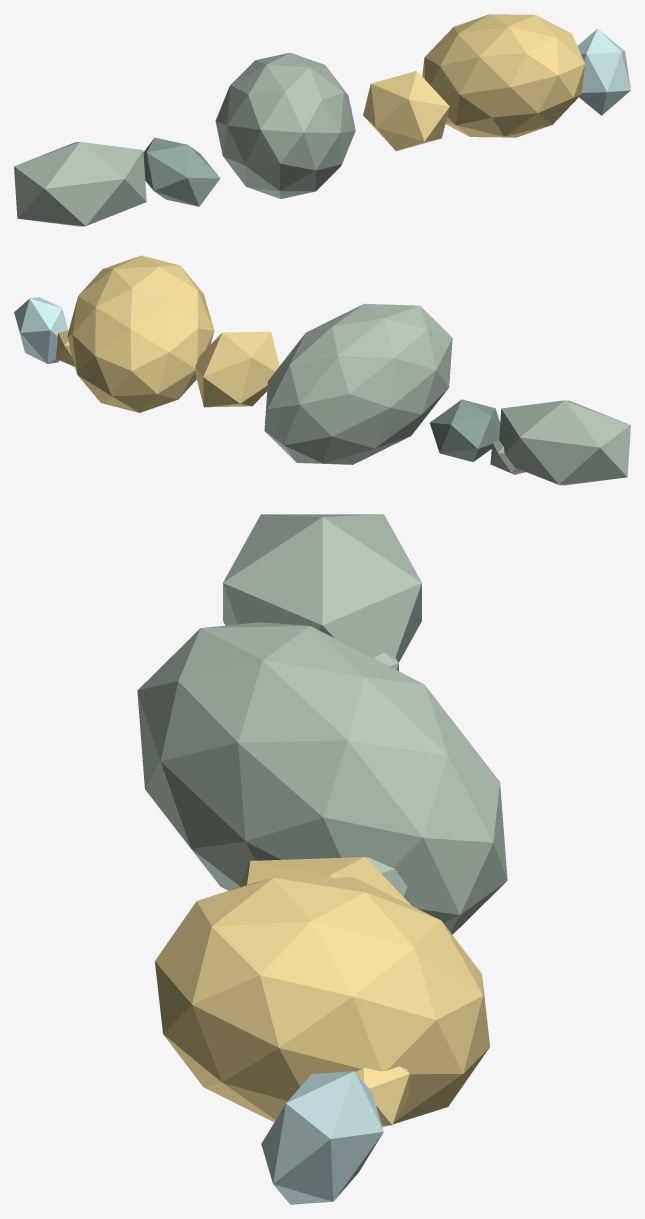
The model's file is 09-rock-set.glb.
3 views of the same model, one above another, from view 1: azimuth 30°, elevation 25°; view 2: azimuth 150°, elevation 25°; view 3: azimuth 270°, elevation 25° (orthographic). The views are drawn at different scales.
Visible parts, largest first — view 1: Rock_4_Main, Rock_2_Main, Rock_0_Main, Rock_3_Main, Rock_1_Main, Rock_5_Main; view 2: Rock_2_Main, Rock_4_Main, Rock_0_Main, Rock_3_Main, Rock_1_Main, Rock_5_Main, Rock_0_Fragment, Rock_4_Fragment; view 3: Rock_2_Main, Rock_4_Main, Rock_0_Main, Rock_5_Main, Rock_3_Main, Rock_4_Fragment.
Boxes of the visible parts, <box> form: Rock_4_Main: <box>422,14,584,137</box>; Rock_2_Main: <box>215,52,355,198</box>; Rock_0_Main: <box>14,142,146,226</box>; Rock_3_Main: <box>363,71,449,151</box>; Rock_1_Main: <box>143,137,220,206</box>; Rock_5_Main: <box>577,28,630,115</box>; Rock_2_Main: <box>264,303,452,464</box>; Rock_4_Main: <box>67,255,214,412</box>; Rock_0_Main: <box>499,400,630,485</box>; Rock_3_Main: <box>195,331,279,407</box>; Rock_1_Main: <box>430,399,500,461</box>; Rock_5_Main: <box>14,297,68,363</box>; Rock_0_Fragment: <box>490,440,525,474</box>; Rock_4_Fragment: <box>56,330,74,366</box>; Rock_2_Main: <box>137,622,507,934</box>; Rock_4_Main: <box>155,877,489,1127</box>; Rock_0_Main: <box>223,514,421,662</box>; Rock_5_Main: <box>261,1071,383,1204</box>; Rock_3_Main: <box>240,857,411,905</box>; Rock_4_Fragment: <box>355,1066,409,1126</box>.
Size of the model in its own units: 7.58 by 1.64 by 1.99.
